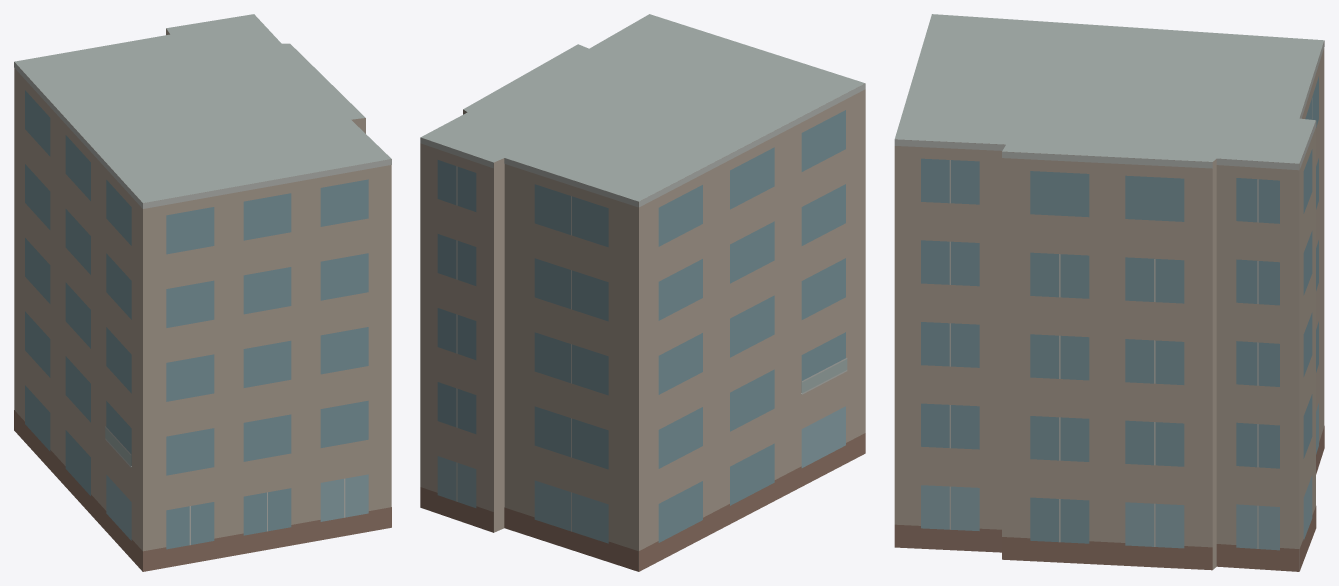
The model's file is survey-upis-32637853.glb.
The picture shows the model from 3 angles, left to right: view 1: azimuth 30°, elevation 25°; view 2: azimuth 150°, elevation 25°; view 3: azimuth 270°, elevation 25°; orthographic projection. The views are drawn at different scales.
Parts seen in each view (by area): view 1: survey-upis-32637853.tmp; view 2: survey-upis-32637853.tmp; view 3: survey-upis-32637853.tmp.
Part boxes in pixels (x1=…): survey-upis-32637853.tmp: x1=14, y1=14, x2=391, y2=571; survey-upis-32637853.tmp: x1=420, y1=14, x2=865, y2=571; survey-upis-32637853.tmp: x1=894, y1=14, x2=1324, y2=571.
Bounding box in the file's own units: 12.01 × 15.25 × 14.57.
